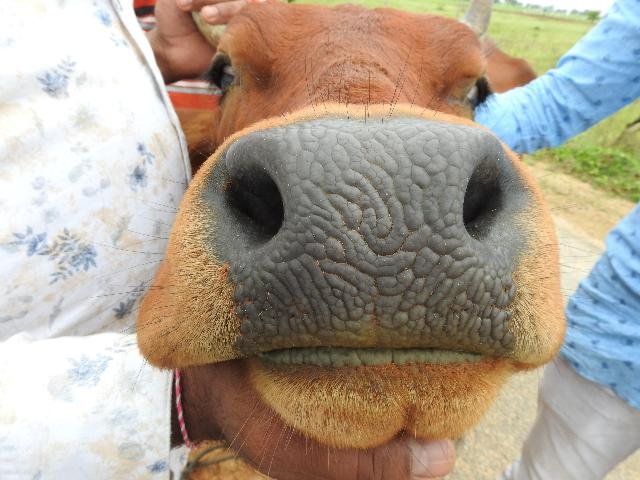Muzzle: (242, 126, 506, 342)
